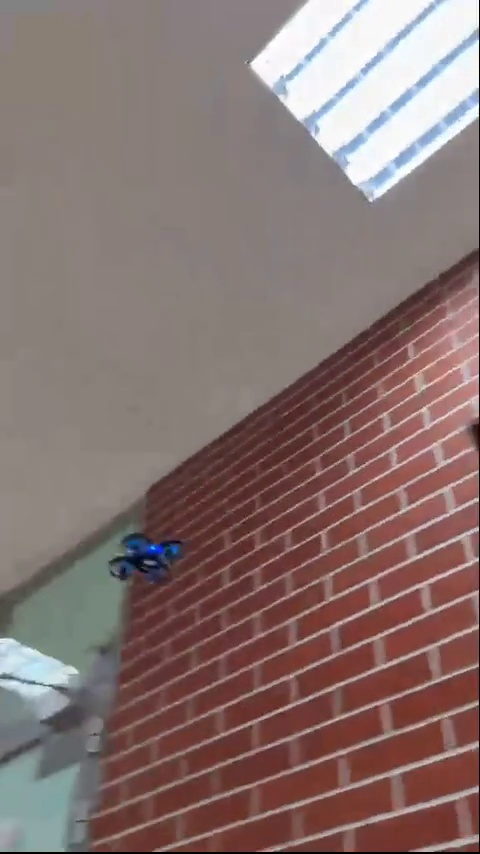drone: (114, 533, 180, 584)
